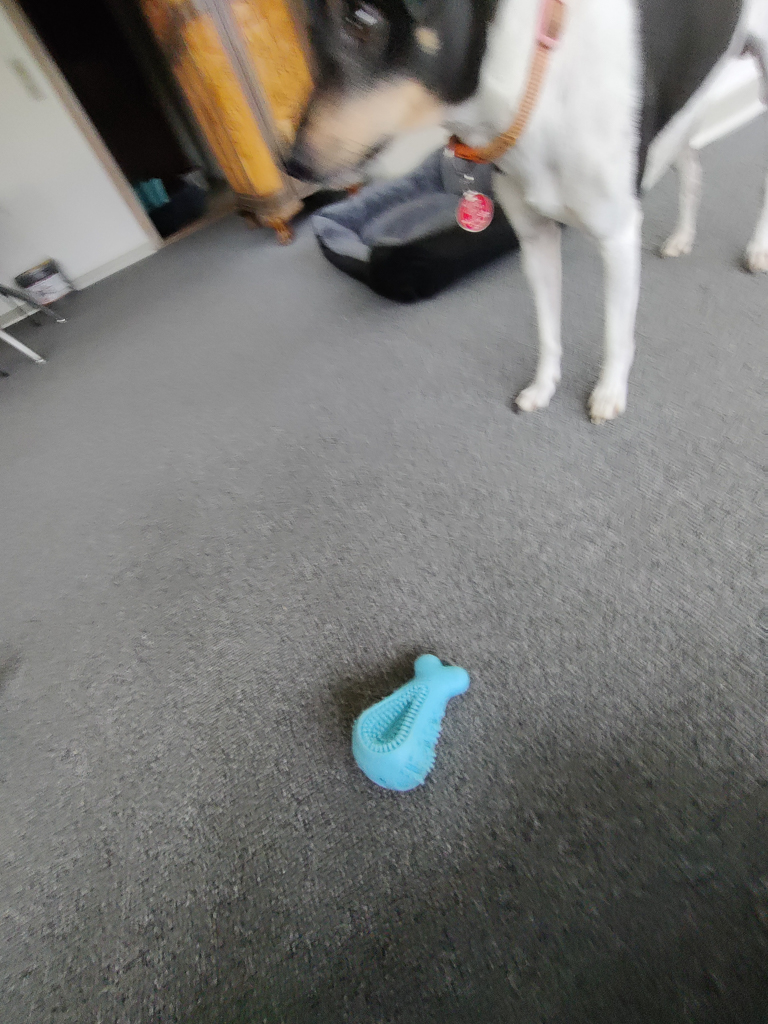Dog: (257, 0, 768, 432)
